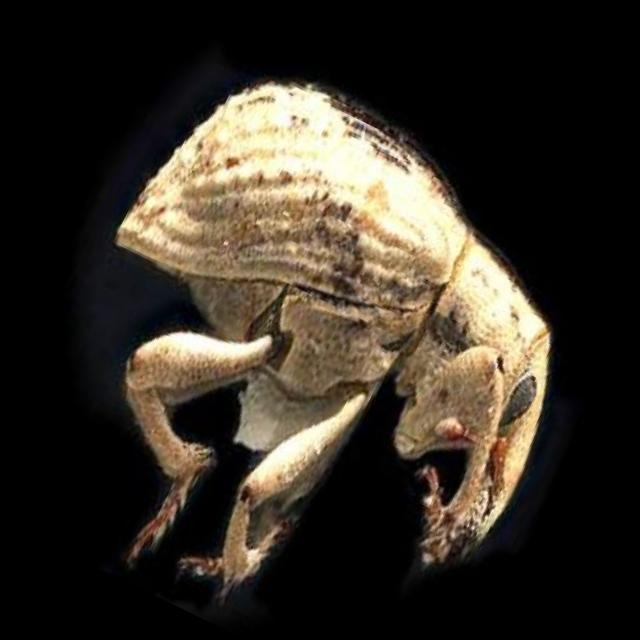rice-bug: (13, 29, 640, 640)
